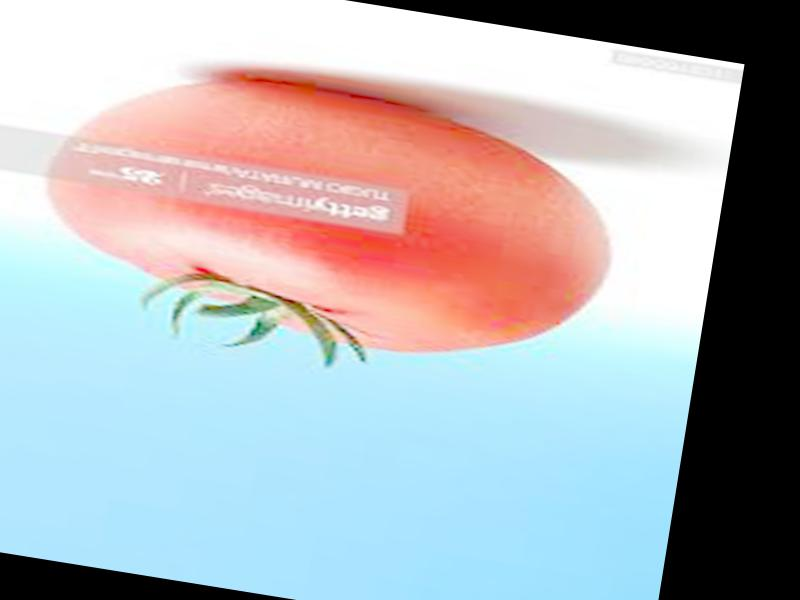Tomato: (25, 51, 625, 381)
